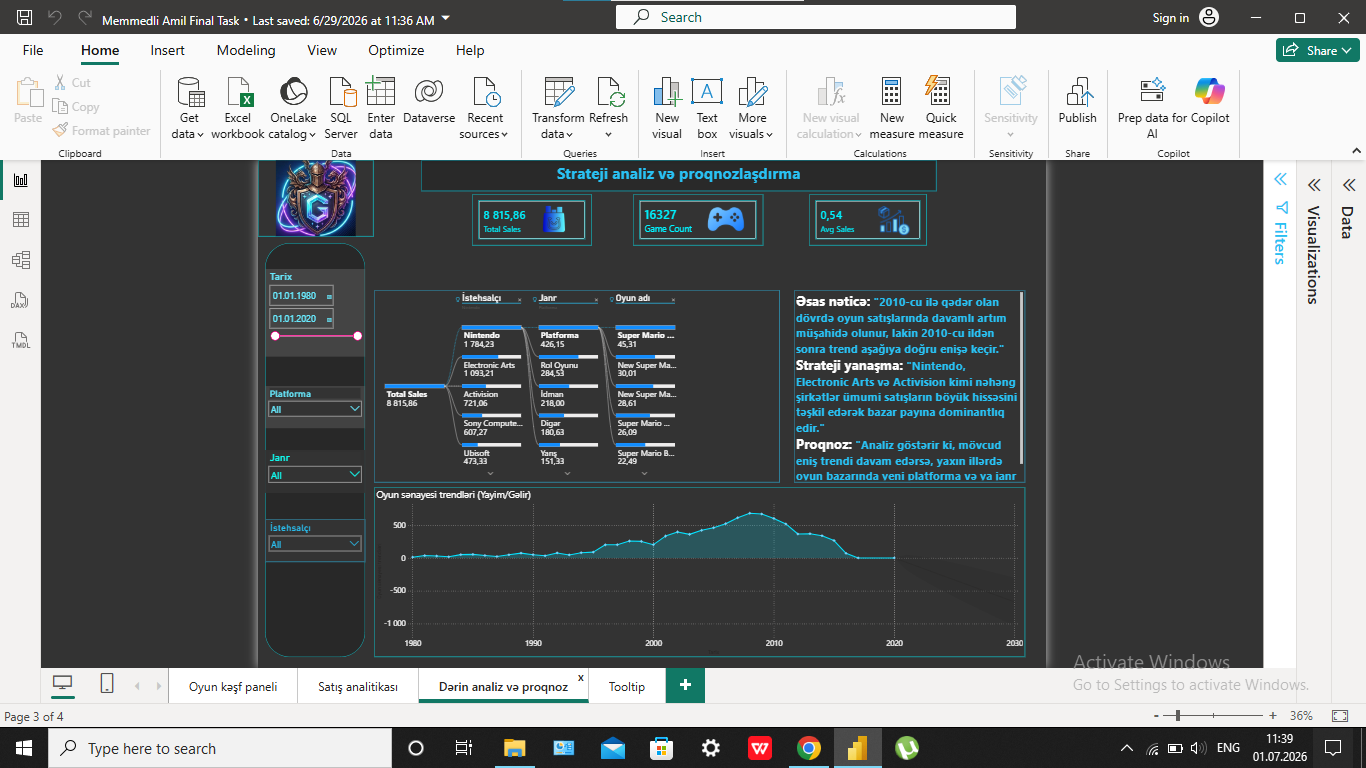

What the dashboard file says about the page in this screenshot:
{"tool":"powerbi","page":{"name":"Dərin analiz və proqnoz","canvas":[2200,1420],"ordinal":2},"visuals":[{"type":"shape","box":[20.2,231,280.1,1157.7],"z":0},{"type":"image","box":[0,0,323.4,213.6],"z":1000},{"type":"textbox","box":[456.2,0,1440.7,86.6],"z":2000},{"type":"cardVisual","fields":{"Data":["Sheet 2.Avg Sales"]},"box":[1538.8,95.3,329.1,144.4],"z":3000},{"type":"cardVisual","fields":{"Data":["Sheet 2.Game Count"]},"box":[1048,95.3,363.8,144.4],"z":4000},{"type":"cardVisual","fields":{"Data":["Sheet 2.Total Sales"]},"box":[597.6,95.3,334.9,144.4],"z":5000},{"type":"image","box":[1229.9,112.6,155.9,106.8],"z":6000},{"type":"image","box":[698.7,124.1,257,83.7],"z":7000},{"type":"image","box":[1631.2,127,291.6,86.6],"z":8000},{"type":"slicer","fields":{"Values":["Sheet 2.Tarix"]},"box":[20.2,306,280.1,245.4],"z":9000},{"type":"slicer","fields":{"Values":["Sheet 2.Platforma"]},"box":[20.2,632.3,280.1,118.4],"z":10000},{"type":"slicer","fields":{"Values":["Sheet 2.Janr"]},"box":[19.6,810.6,279.5,120.2],"z":11000},{"type":"lineChart","title":"Oyun sənayesi trendləri (Yayim/Gəlir)","fields":{"Category":["Sheet 2.Tarix.Variation.Date Hierarchy.Year"],"Y":["Sheet 2.Total Sales"]},"box":[324.3,914.1,1819.7,475.2],"z":12000},{"type":"decompositionTreeVisual","fields":{"ExplainBy":["Sheet 2.İstehsalçı","Sheet 2.Janr","Sheet 2.Oyun adı"],"Analyze":["Sheet 2.Total Sales"]},"box":[323.1,364.2,1133.8,537.5],"z":13000},{"type":"slicer","fields":{"Values":["Sheet 2.İstehsalçı"]},"box":[19.6,1003.5,279.5,120.2],"z":14000},{"type":"textbox","box":[1498,364.2,646.2,537.5],"z":15000}]}

Visuals, with their boxes on the page's 2200x1420 design canvas (x1, y1, x2, y2). These are canvas units, not pixel positions in the 1366x768 screenshot, which may show the page scaled, cropped or inside an application window:
shape: locate(20, 231, 300, 1389)
image: locate(0, 0, 323, 214)
textbox: locate(456, 0, 1897, 87)
cardVisual - Sheet 2.Avg Sales: locate(1539, 95, 1868, 240)
cardVisual - Sheet 2.Game Count: locate(1048, 95, 1412, 240)
cardVisual - Sheet 2.Total Sales: locate(598, 95, 932, 240)
image: locate(1230, 113, 1386, 219)
image: locate(699, 124, 956, 208)
image: locate(1631, 127, 1923, 214)
slicer - Sheet 2.Tarix: locate(20, 306, 300, 551)
slicer - Sheet 2.Platforma: locate(20, 632, 300, 751)
slicer - Sheet 2.Janr: locate(20, 811, 299, 931)
"Oyun sənayesi trendləri (Yayim/Gəlir)" lineChart: locate(324, 914, 2144, 1389)
decompositionTreeVisual - Sheet 2.İstehsalçı x Sheet 2.Janr: locate(323, 364, 1457, 902)
slicer - Sheet 2.İstehsalçı: locate(20, 1004, 299, 1124)
textbox: locate(1498, 364, 2144, 902)
